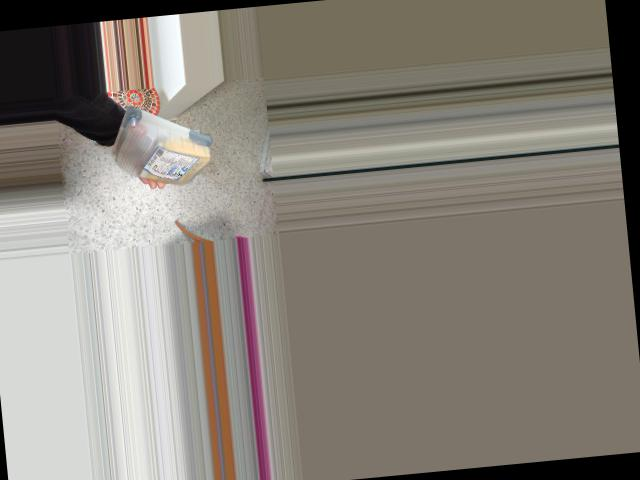cheese: (92, 100, 220, 194)
